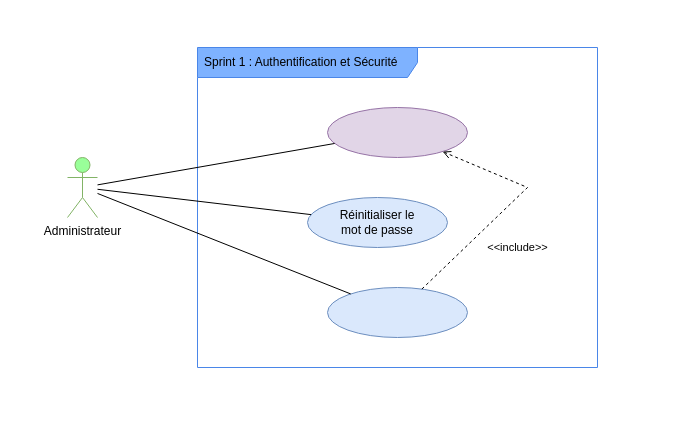
Some shapes in this 685 by 435 pixel diagram are drawn without their labels. Here are the shapes that lost their labels. From the top down, the centre of each, then its label:
the point at 397,132: S'authentifier
the point at 397,312: Gérer les accès et permissions
